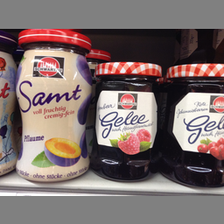jam: (15, 30, 91, 182), (91, 61, 164, 183), (164, 65, 224, 189)
